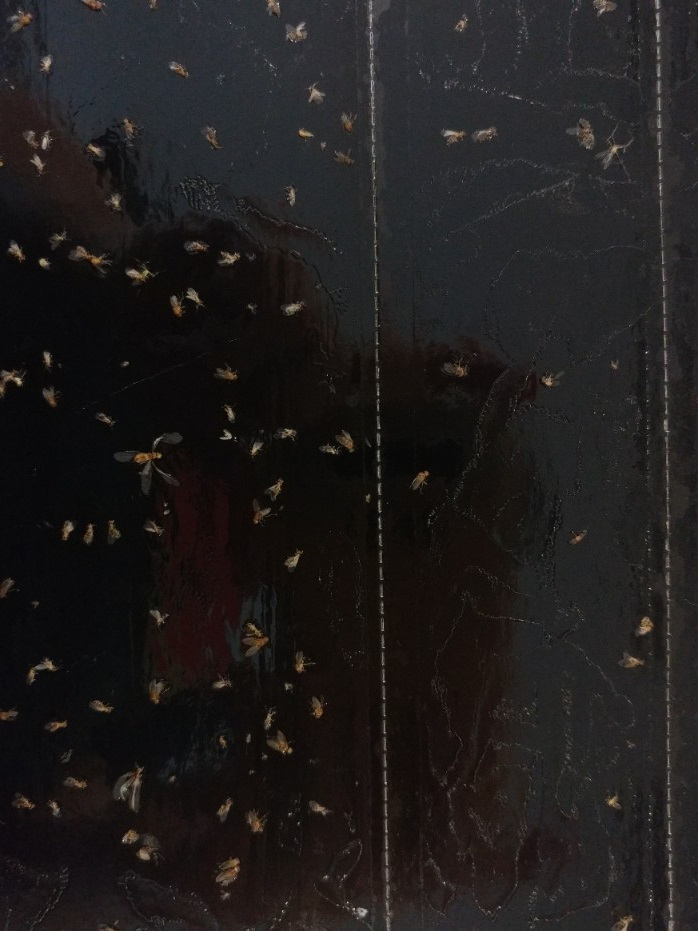flying termite: (108, 431, 189, 495)
